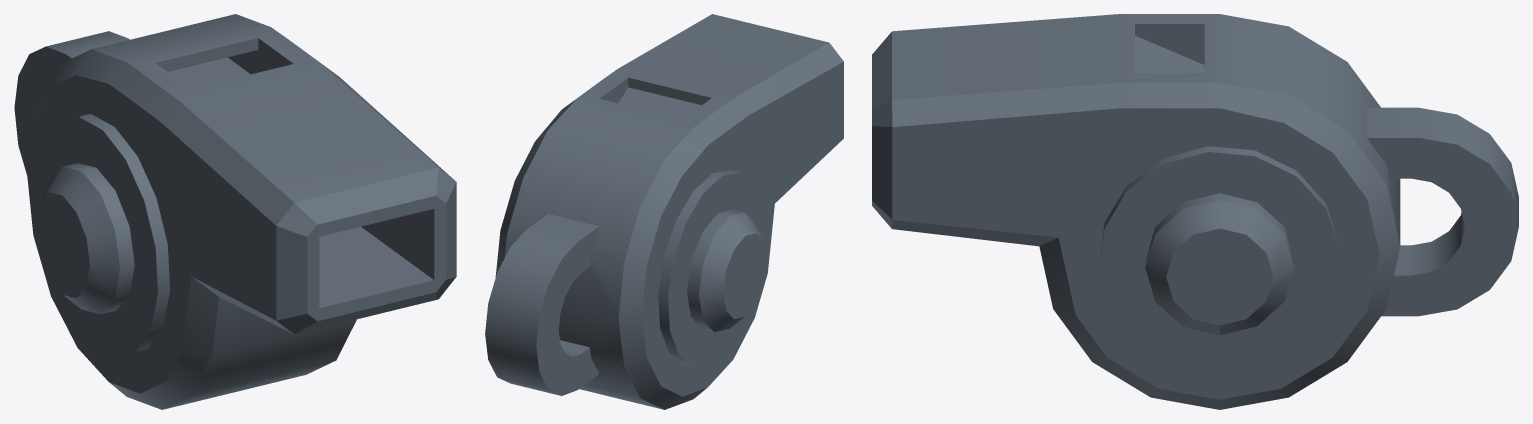
The model's file is char_npc_scoutfarmer_whistle.fbx.
3 renders of one model, left to right at view 1: azimuth 30°, elevation 25°; view 2: azimuth 150°, elevation 25°; view 3: azimuth 270°, elevation 25°, orthographic. The views are drawn at different scales.
Visible parts, largest first — view 1: char_npc_scoutfarmer_whistle; view 2: char_npc_scoutfarmer_whistle; view 3: char_npc_scoutfarmer_whistle.
Boxes of the visible parts, left/top/right/bottom form: char_npc_scoutfarmer_whistle: left=14, top=14, right=456, bottom=409; char_npc_scoutfarmer_whistle: left=485, top=14, right=843, bottom=409; char_npc_scoutfarmer_whistle: left=872, top=14, right=1518, bottom=409.
Bounding box in the file's own units: 0.4263 × 0.5 × 0.8961.
